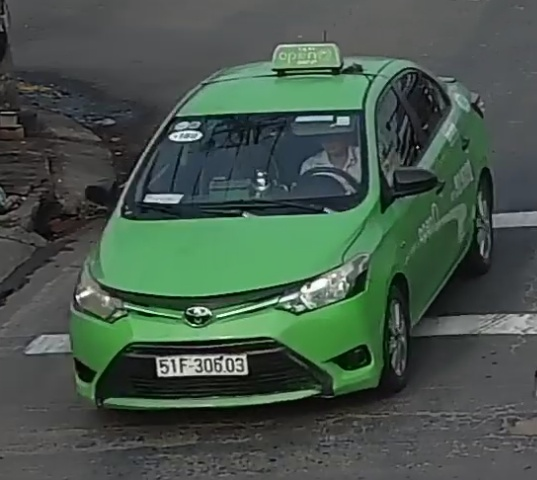vehicle plate: (150, 348, 258, 384)
